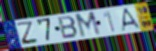1: (103, 10, 117, 34)
7: (36, 17, 53, 43)
A: (121, 7, 143, 32)
B: (57, 15, 80, 40)
M: (74, 10, 103, 39)
Z: (16, 21, 40, 46)
